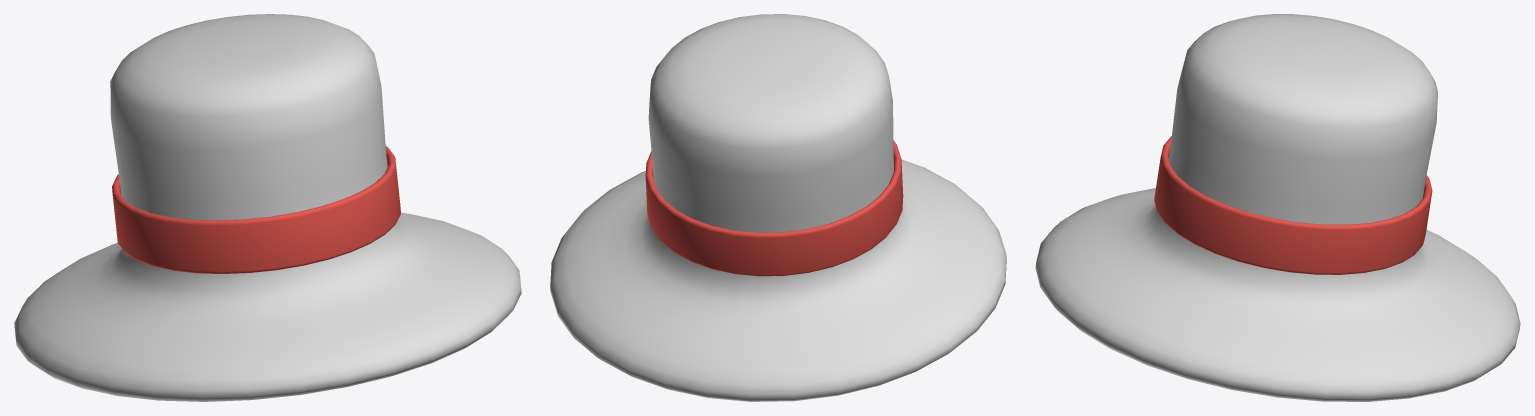
File: top_hat.glb
3 views of the same model, side by side, from view 1: azimuth 30°, elevation 25°; view 2: azimuth 150°, elevation 25°; view 3: azimuth 270°, elevation 25° (orthographic). The views are drawn at different scales.
Parts seen in each view (by area): view 1: top_hat; view 2: top_hat; view 3: top_hat.
Boxes of the visible parts, x1,y1,x2,y2 form: top_hat: (14, 14, 521, 401); top_hat: (550, 14, 1006, 401); top_hat: (1035, 14, 1520, 401).
Size of the model in its own units: 1.04 by 0.6799 by 1.03.
